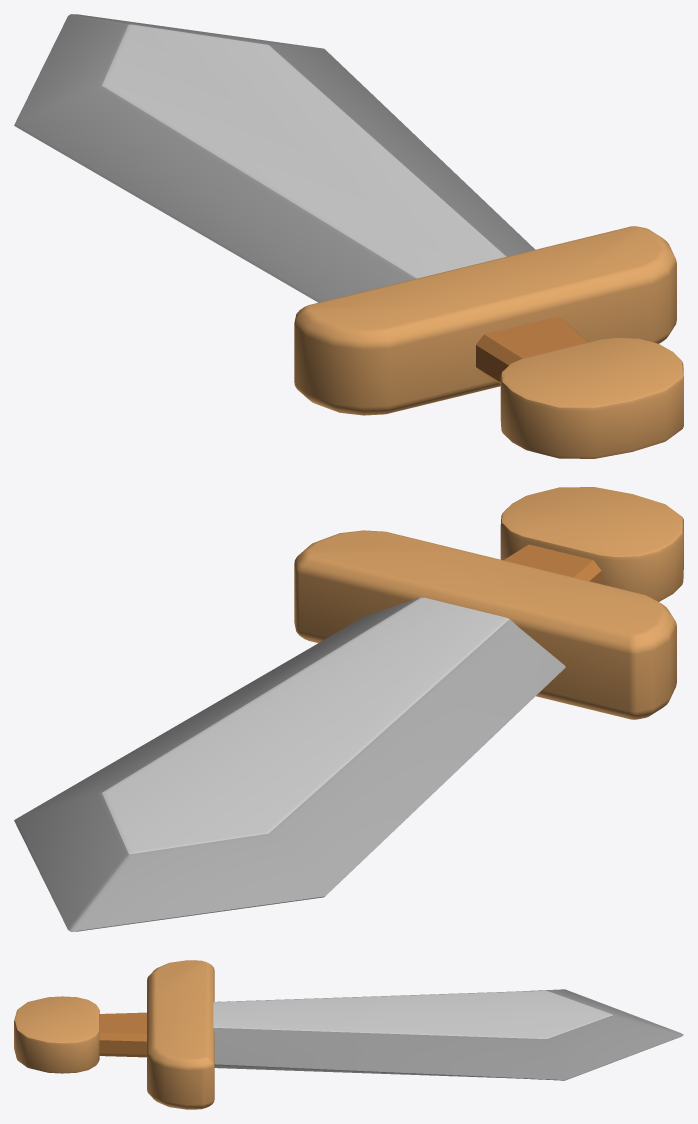
File: Sword_3D_Icon.fbx
3 renders of one model, top to bottom at view 1: azimuth 30°, elevation 25°; view 2: azimuth 150°, elevation 25°; view 3: azimuth 270°, elevation 25°, orthographic. The views are drawn at different scales.
Visible parts, largest first — view 1: Dummy001; view 2: Dummy001; view 3: Dummy001.
Boxes of the visible parts, left/top/right/bottom form: Dummy001: left=14, top=14, right=683, bottom=458; Dummy001: left=14, top=487, right=683, bottom=931; Dummy001: left=14, top=960, right=683, bottom=1109.
Bounding box in the file's own units: 66.95 × 14.99 × 180.
